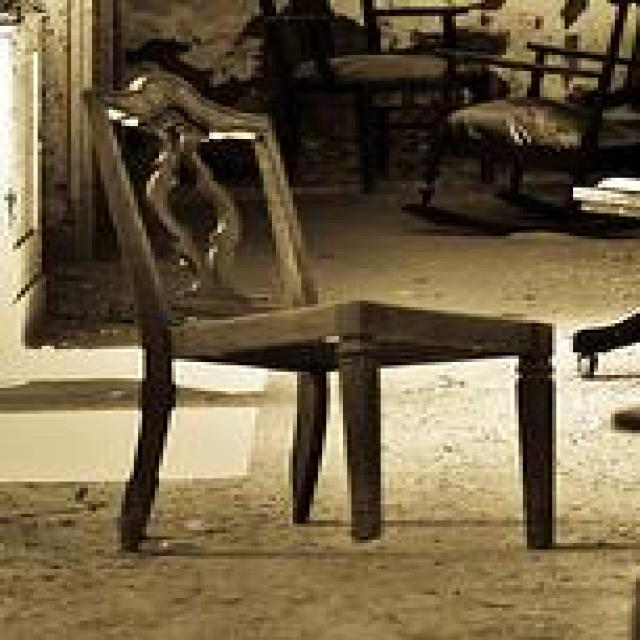chair: (72, 73, 560, 557)
